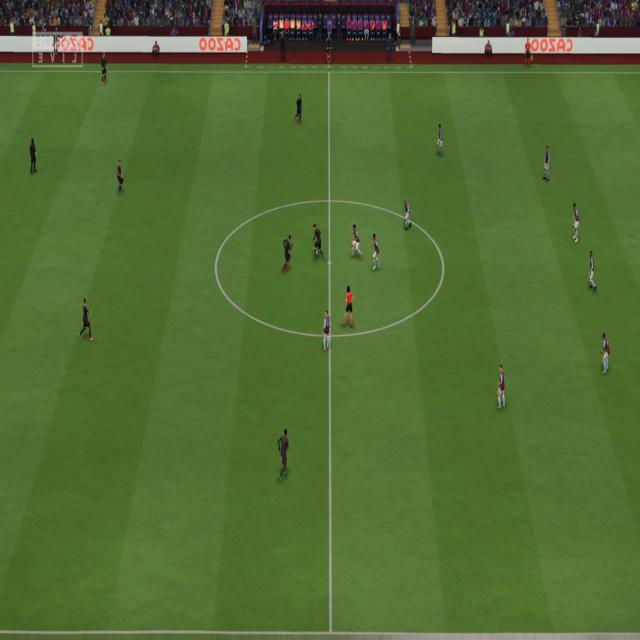Ball: (314, 245, 320, 258)
Referee: (341, 287, 353, 327)
Team-A: (77, 297, 94, 344), (275, 429, 288, 482), (283, 235, 294, 271), (27, 139, 37, 176), (114, 158, 124, 192), (313, 226, 323, 258), (294, 94, 303, 124), (100, 53, 106, 85)
Team-H: (586, 252, 598, 294), (495, 366, 506, 411), (348, 224, 362, 259), (369, 233, 381, 270), (600, 333, 611, 373), (570, 204, 580, 242), (322, 313, 331, 352), (402, 198, 412, 230), (435, 123, 444, 157), (542, 146, 550, 182)
